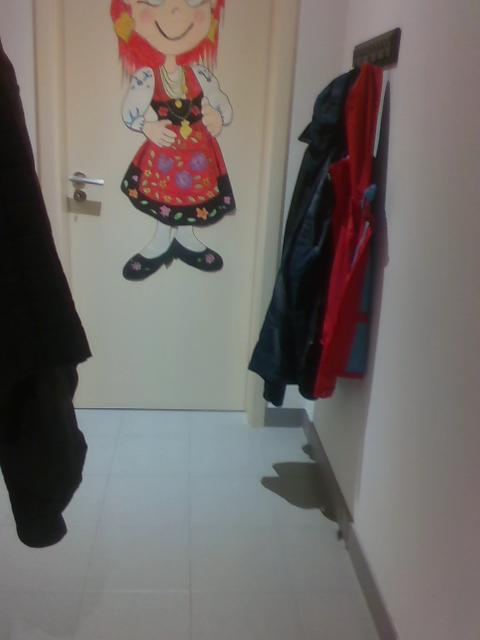door: (63, 1, 271, 412)
